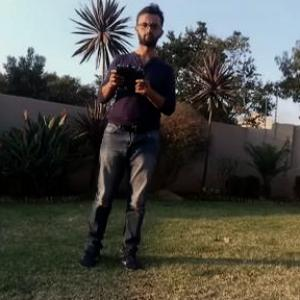follow: (73, 0, 180, 274)
